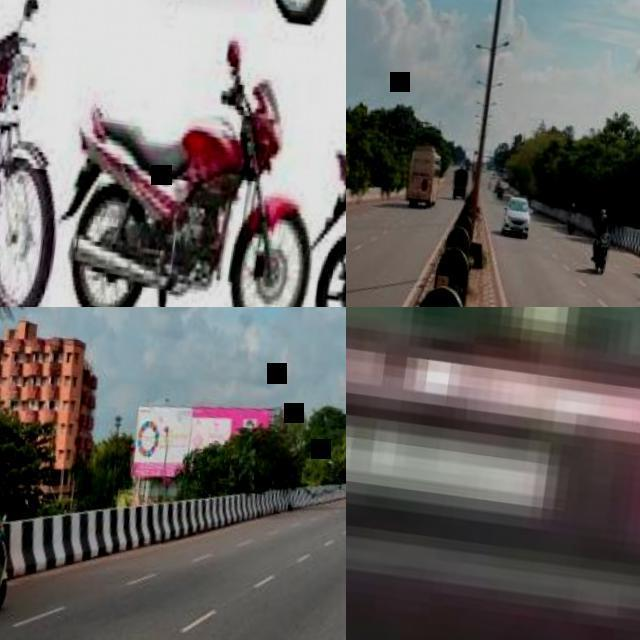car: (1, 0, 276, 297), (529, 109, 640, 232), (504, 196, 530, 237)
